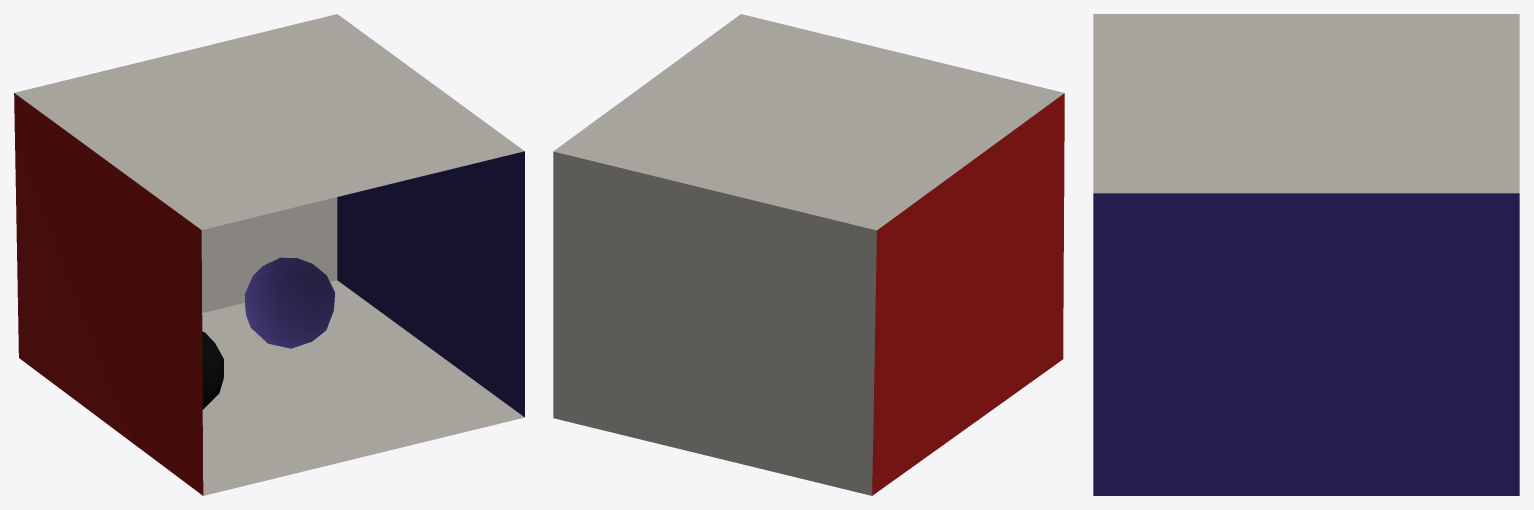
File: CornellBox-Sphere-1217.obj
3 renders of one model, left to right at view 1: azimuth 30°, elevation 25°; view 2: azimuth 150°, elevation 25°; view 3: azimuth 270°, elevation 25°, orthographic. The views are drawn at different scales.
Parts seen in each view (by area): view 1: ceiling, leftWall, floor, rightWall, backWall, leftSphere, rightSphere; view 2: backWall, ceiling, leftWall; view 3: rightWall, ceiling.
Boxes of the visible parts, x1=… form: ceiling: x1=14, y1=14, x2=524, y2=229; leftWall: x1=14, y1=93, x2=203, y2=495; floor: x1=202, y1=280, x2=524, y2=495; rightWall: x1=337, y1=151, x2=524, y2=417; backWall: x1=201, y1=197, x2=337, y2=312; leftSphere: x1=244, y1=257, x2=334, y2=348; rightSphere: x1=202, y1=331, x2=223, y2=409; backWall: x1=553, y1=151, x2=876, y2=495; ceiling: x1=553, y1=14, x2=1064, y2=230; leftWall: x1=872, y1=93, x2=1064, y2=495; rightWall: x1=1093, y1=193, x2=1519, y2=495; ceiling: x1=1093, y1=14, x2=1519, y2=193.
Bounding box in the file's own units: 2.02 × 1.59 × 2.03.
